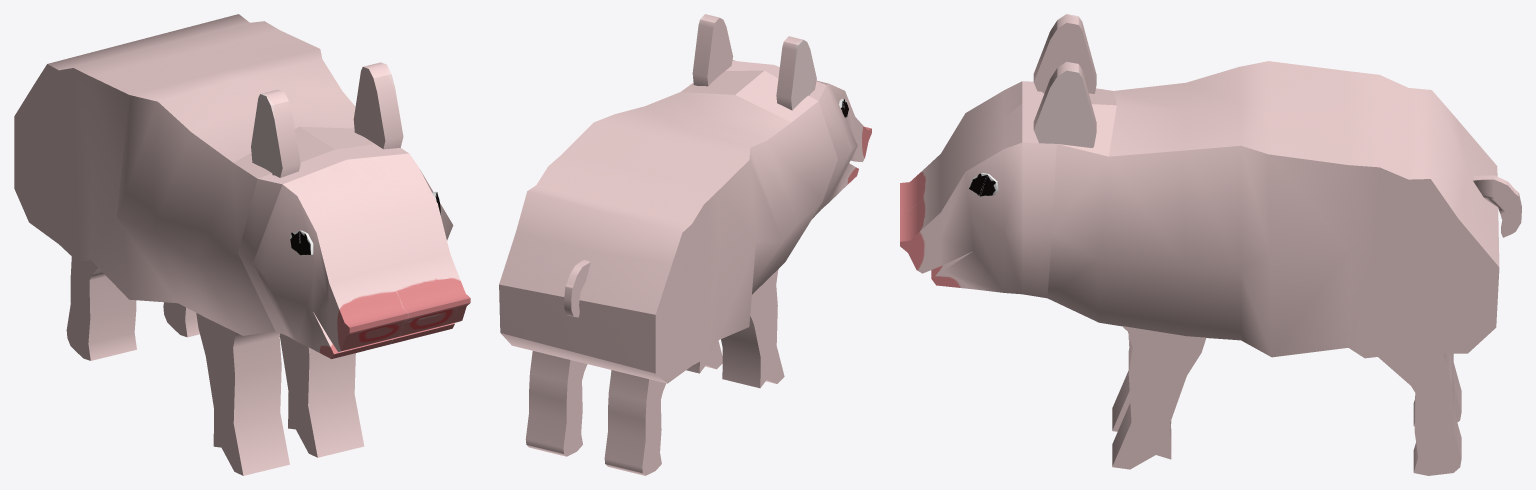
The model's file is pig_3.fbx.
The picture shows the model from 3 angles, left to right: view 1: azimuth 30°, elevation 25°; view 2: azimuth 150°, elevation 25°; view 3: azimuth 270°, elevation 25°; orthographic projection. The views are drawn at different scales.
Visible parts, largest first — view 1: body, pCube13, pCube2, polySurface2; view 2: body, pCube13, pCube2; view 3: body, pCube13, pCube2.
Boxes of the visible parts, bbox=[...] form: body: bbox=[14, 14, 470, 358]; pCube13: bbox=[66, 62, 403, 475]; pCube2: bbox=[279, 333, 364, 457]; polySurface2: bbox=[290, 230, 313, 255]; body: bbox=[499, 60, 871, 383]; pCube13: bbox=[525, 14, 816, 475]; pCube2: bbox=[686, 340, 722, 373]; body: bbox=[900, 61, 1499, 358]; pCube13: bbox=[1033, 14, 1521, 475]; pCube2: bbox=[1112, 326, 1206, 469].
Bounding box in the file's own units: 3.45 × 5.4 × 7.63.
